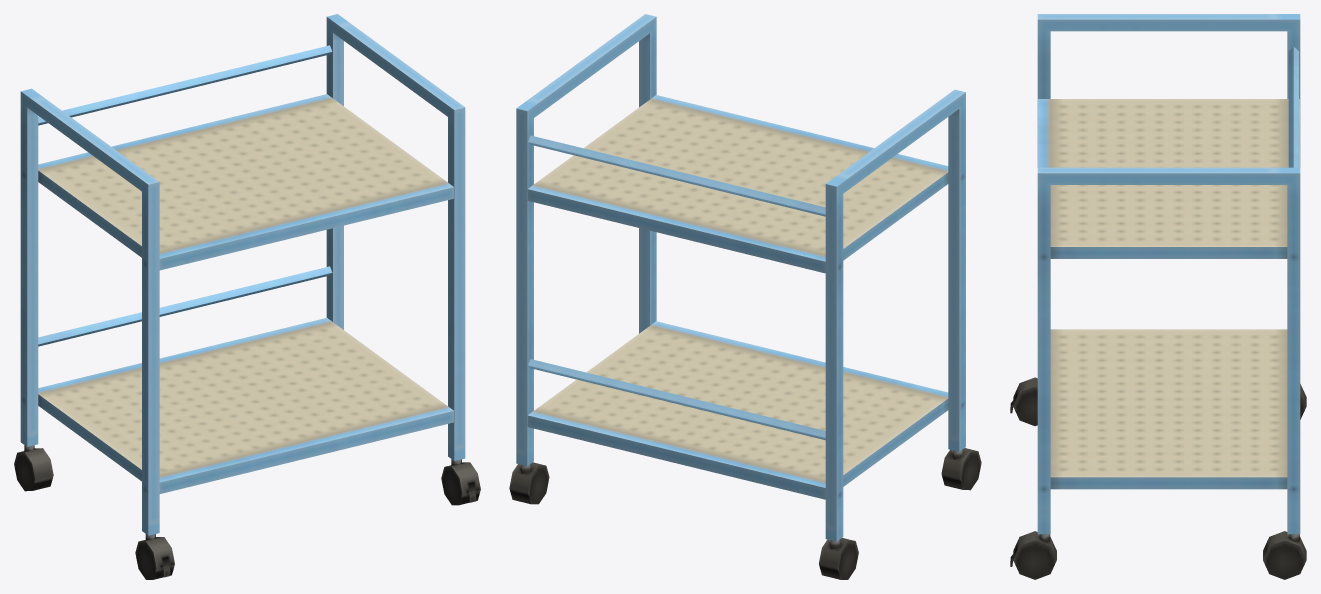
File: KR_Rack_wagon_01_02.fbx
3 views of the same model, side by side, from view 1: azimuth 30°, elevation 25°; view 2: azimuth 150°, elevation 25°; view 3: azimuth 270°, elevation 25° (orthographic). The views are drawn at different scales.
Parts seen in each view (by area): view 1: rack_wagon, caster_02, caster_01, caster_03; view 2: rack_wagon, caster_04, caster_03, caster_01; view 3: rack_wagon, caster_02, caster_04, caster_01.
Boxes of the visible parts, x1,y1,x2,y2 form: rack_wagon: (20, 14, 465, 535); caster_02: (441, 459, 480, 505); caster_01: (135, 534, 174, 579); caster_03: (14, 445, 53, 491); rack_wagon: (516, 14, 965, 541); caster_04: (509, 462, 549, 504); caster_03: (819, 538, 858, 579); caster_01: (941, 448, 981, 490); rack_wagon: (1037, 14, 1300, 534); caster_02: (1010, 531, 1056, 579); caster_04: (1263, 531, 1306, 579); caster_01: (1010, 377, 1037, 426).
Size of the model in its own units: 44 by 51 by 33.83.
